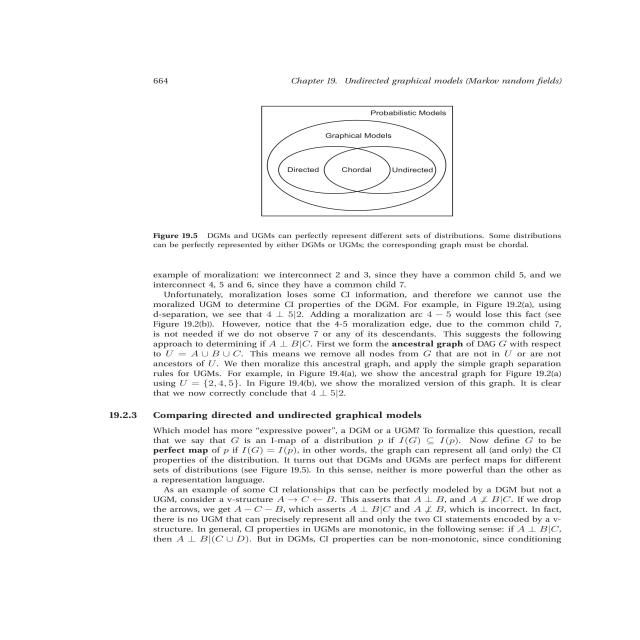diagram: (69, 92, 612, 264)
